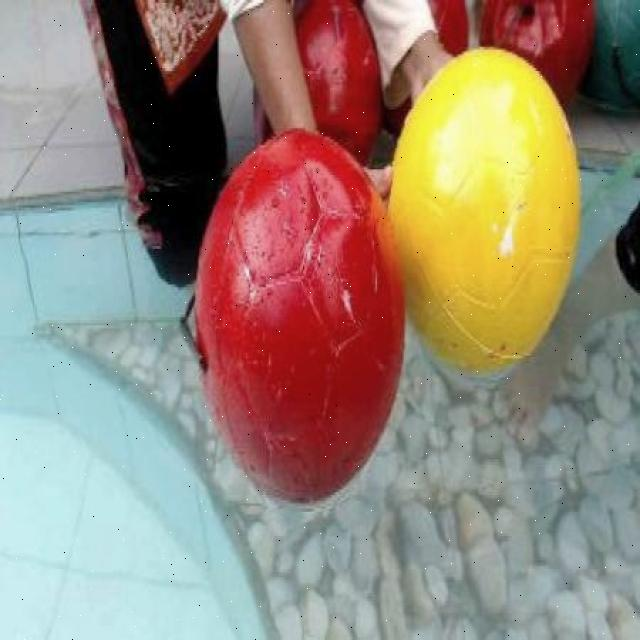buoy: (194, 127, 406, 502), (387, 48, 579, 373)
